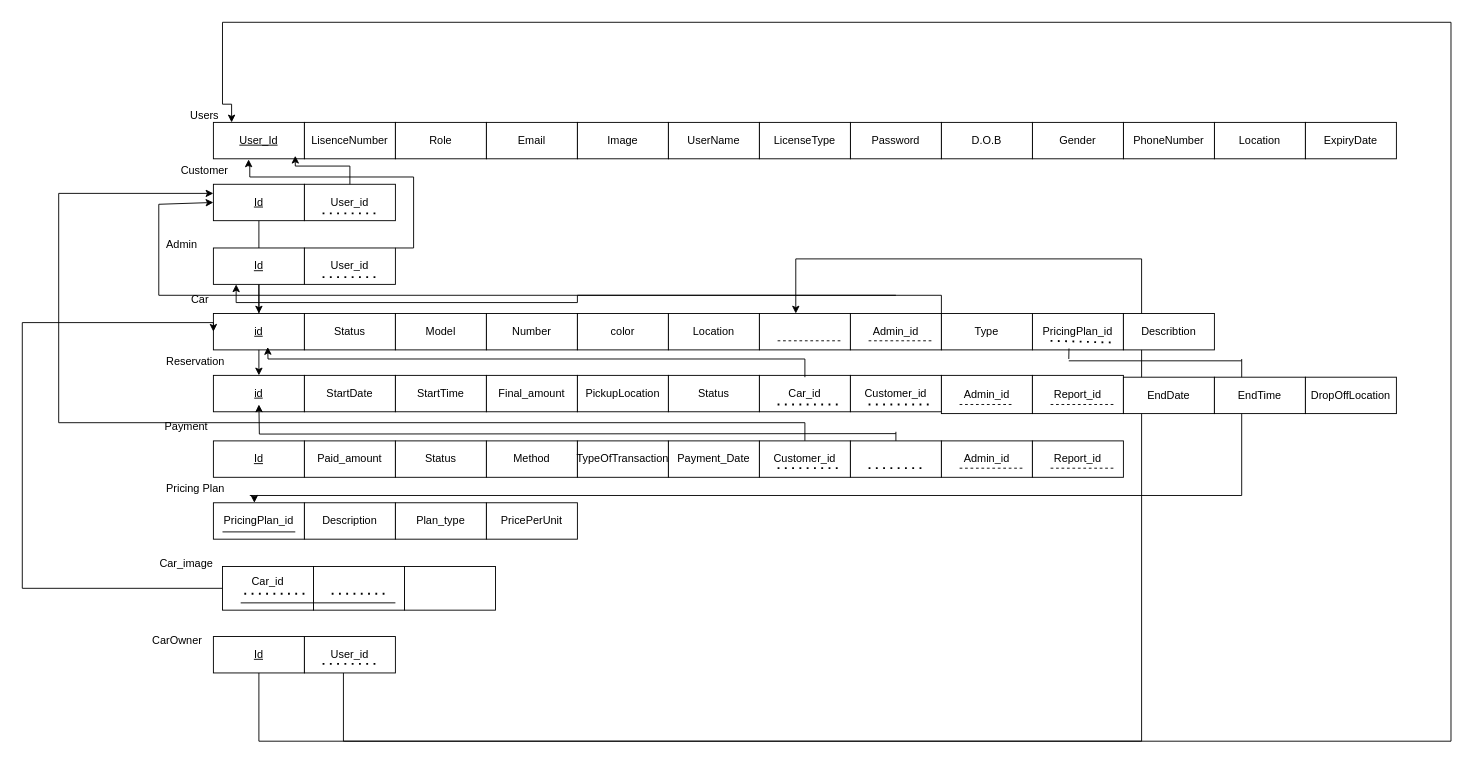
This 1474x764 diagram has some shape labels left out. The shapes that lost their labels are listed below. From the top down, each one's centre as x and y in pixels, then its label:
pixel 804 331: Owner_id
pixel 895 458: Rental_id
pixel 358 588: image_path
pixel 449 588: Image_type
